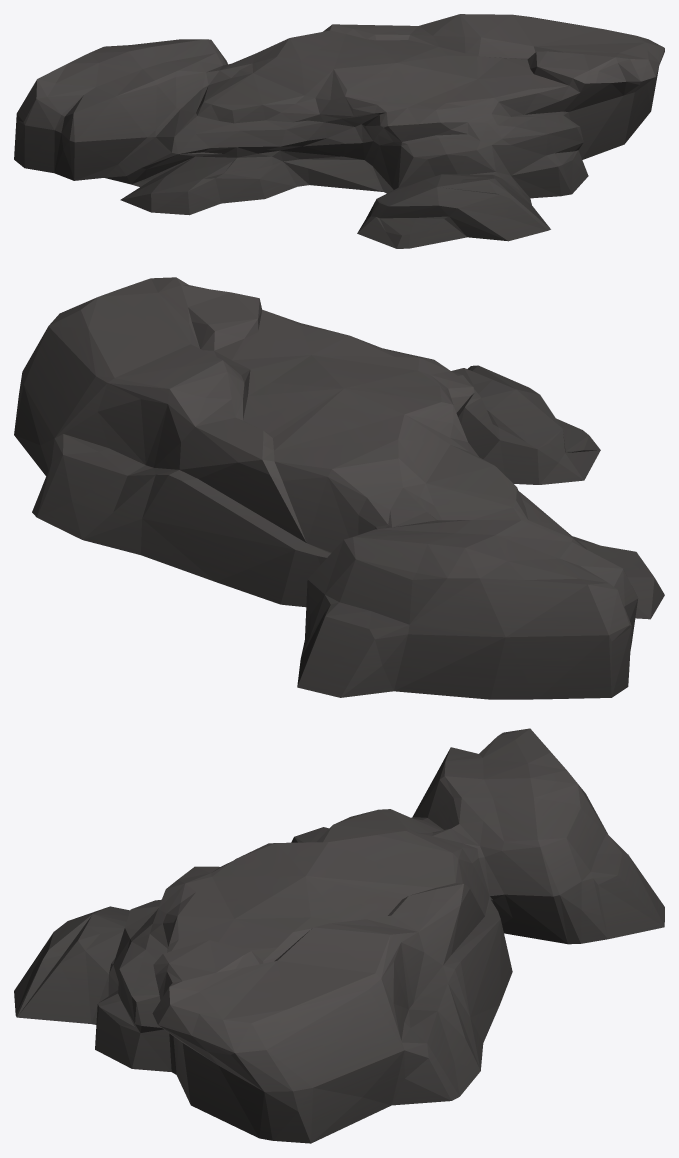
The model's file is ZLP_Rock_E_4.FBX.
3 renders of one model, top to bottom at view 1: azimuth 30°, elevation 25°; view 2: azimuth 150°, elevation 25°; view 3: azimuth 270°, elevation 25°, orthographic. The views are drawn at different scales.
Visible parts, largest first — view 1: ZLP_Rock_E_4; view 2: ZLP_Rock_E_4; view 3: ZLP_Rock_E_4.
Part boxes in pixels (x1,y1,x2,y2): ZLP_Rock_E_4: (14, 14, 664, 248); ZLP_Rock_E_4: (14, 277, 664, 699); ZLP_Rock_E_4: (14, 728, 664, 1143).
Bounding box in the file's own units: 526 × 88.56 × 436.
